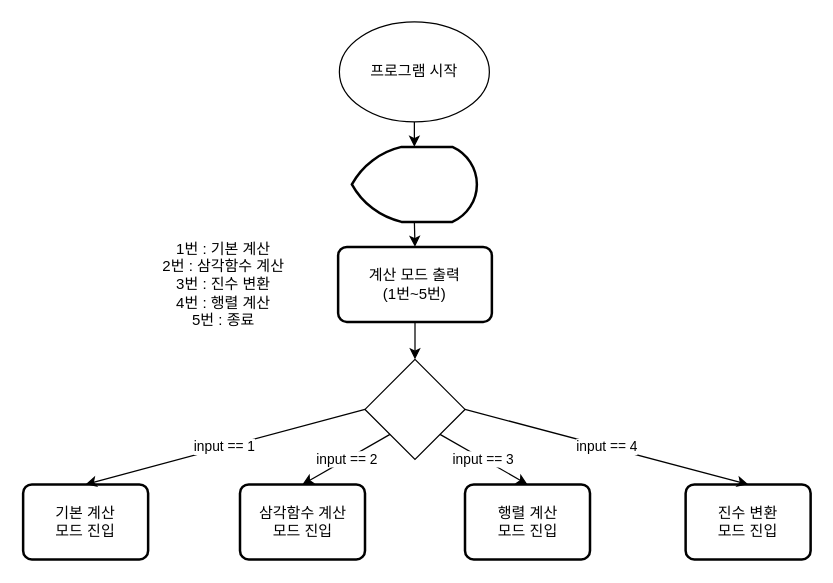
Image size: 833x583. Some labels were removed from this diagram. The centre of each missing label's shape, as x and y in pixels:
모드 선택: point 414,408
타이틀 출력 (몇 초): point 414,183
